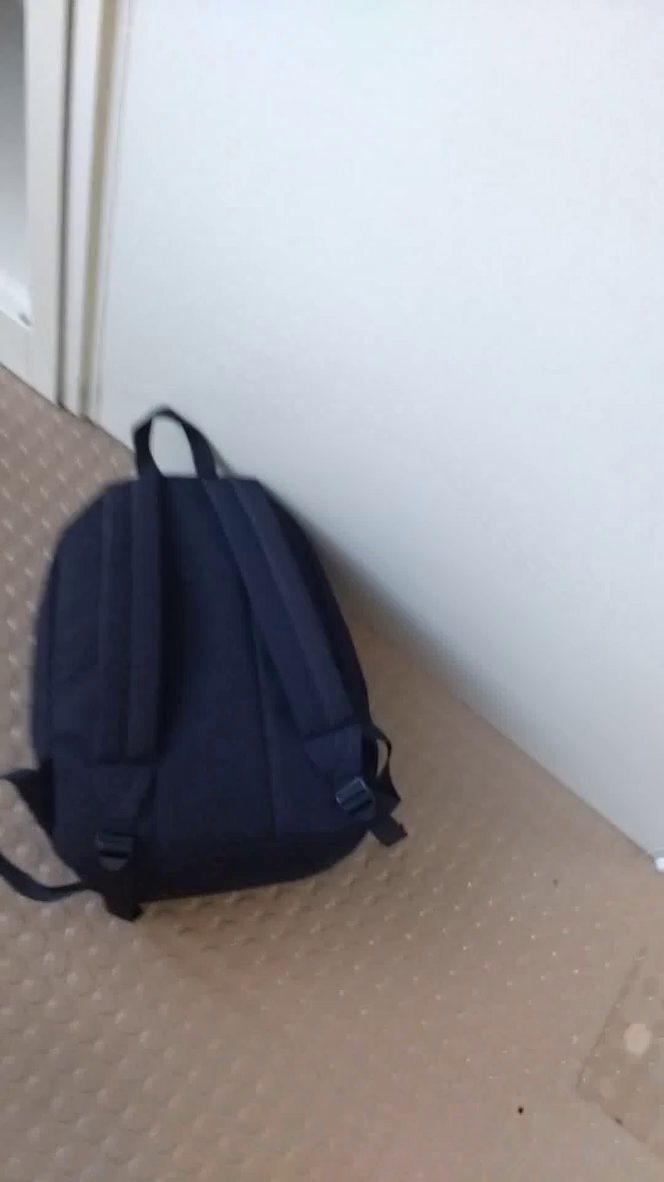bag: (1, 367, 431, 959)
